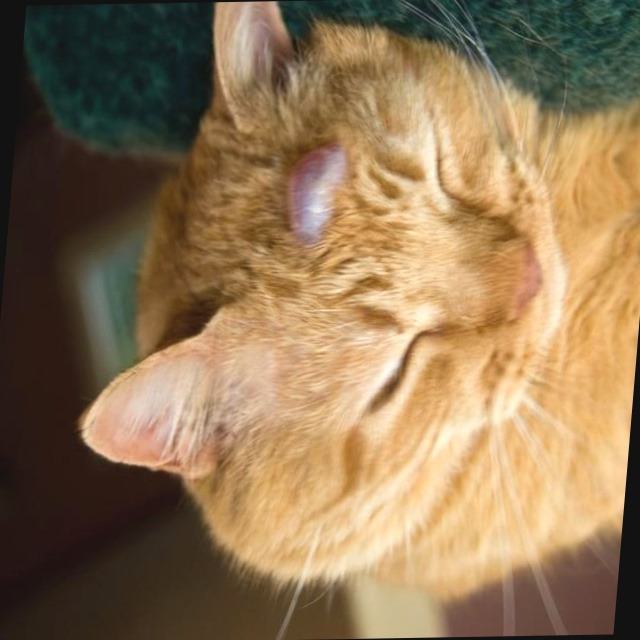lump_and_bump: (285, 137, 344, 243)
